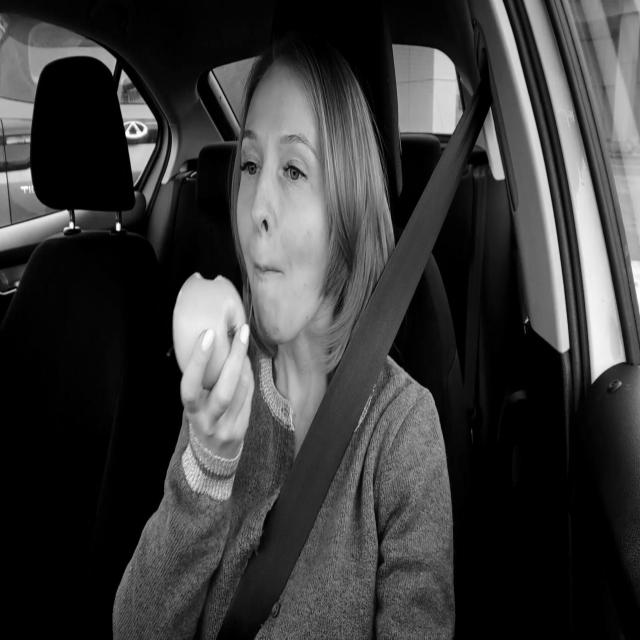Eating: (171, 266, 251, 396)
Seatbelt: (217, 71, 492, 640)
